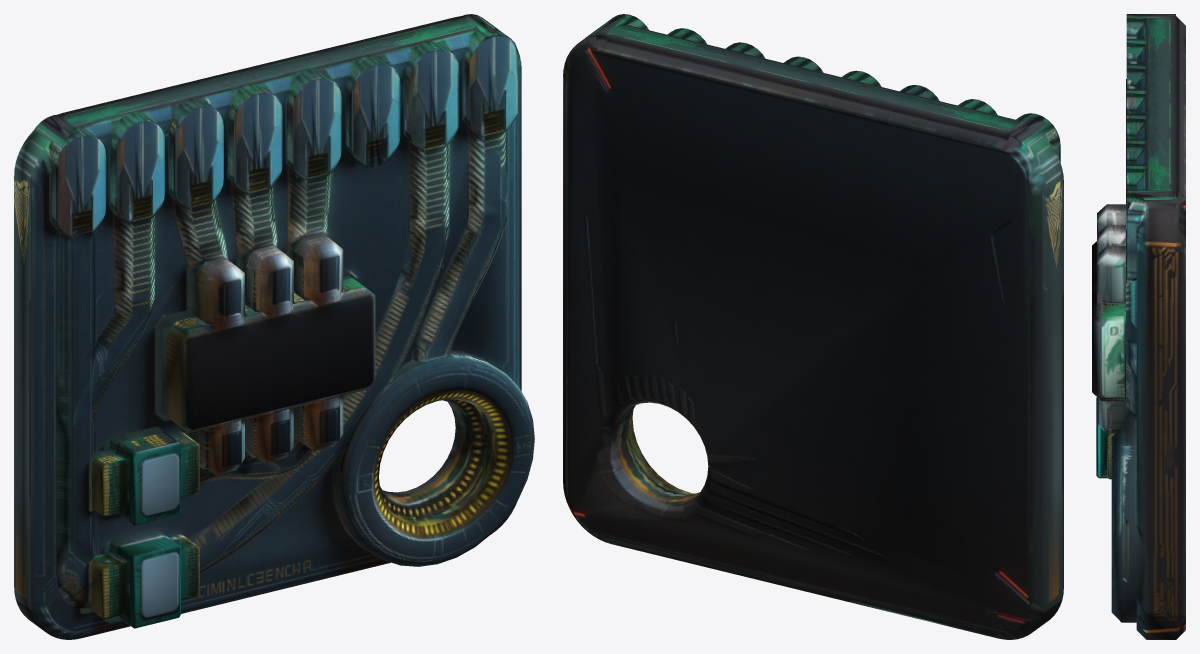
File: Cyberpunk Chip.fbx
The picture shows the model from 3 angles, left to right: view 1: azimuth 30°, elevation 25°; view 2: azimuth 150°, elevation 25°; view 3: azimuth 270°, elevation 25°; orthographic projection. The views are drawn at different scales.
Parts seen in each view (by area): view 1: Mesh_0; view 2: Mesh_0; view 3: Mesh_0.
Part boxes in pixels (x1,y1,x2,y2): Mesh_0: (14, 14, 534, 639); Mesh_0: (563, 14, 1063, 639); Mesh_0: (1092, 14, 1185, 639).
Size of the model in its own units: 200 by 200 by 38.
1 material, 1 textured.
